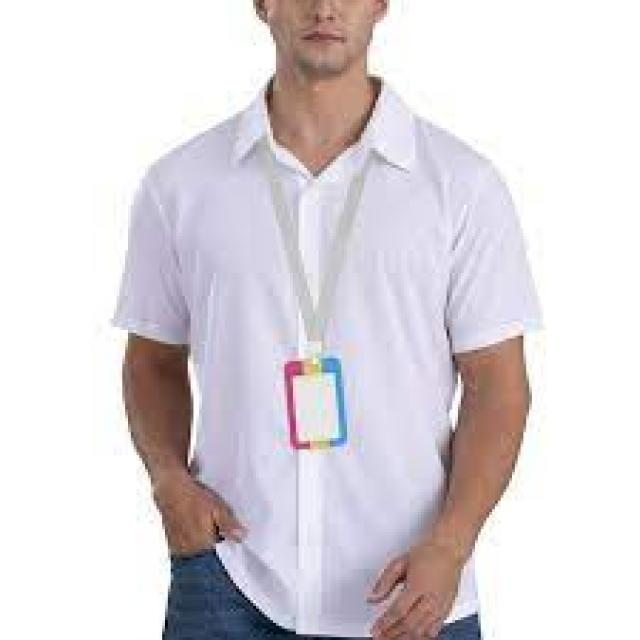id_card: (247, 136, 381, 450)
